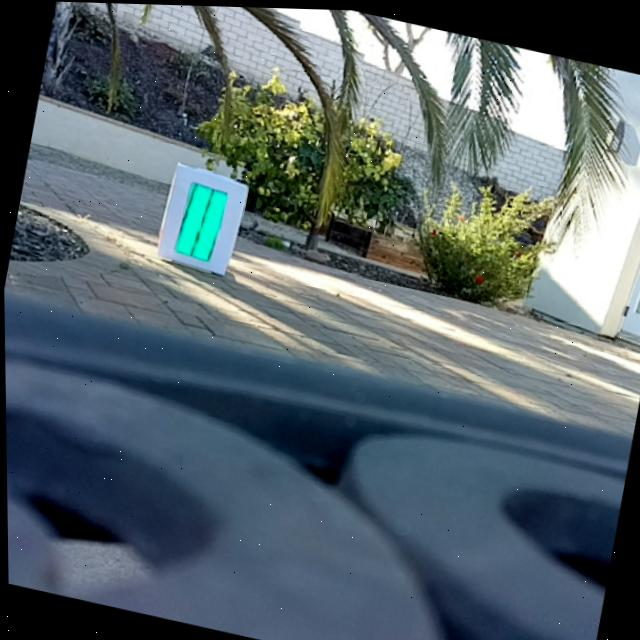led: (171, 175, 231, 264)
